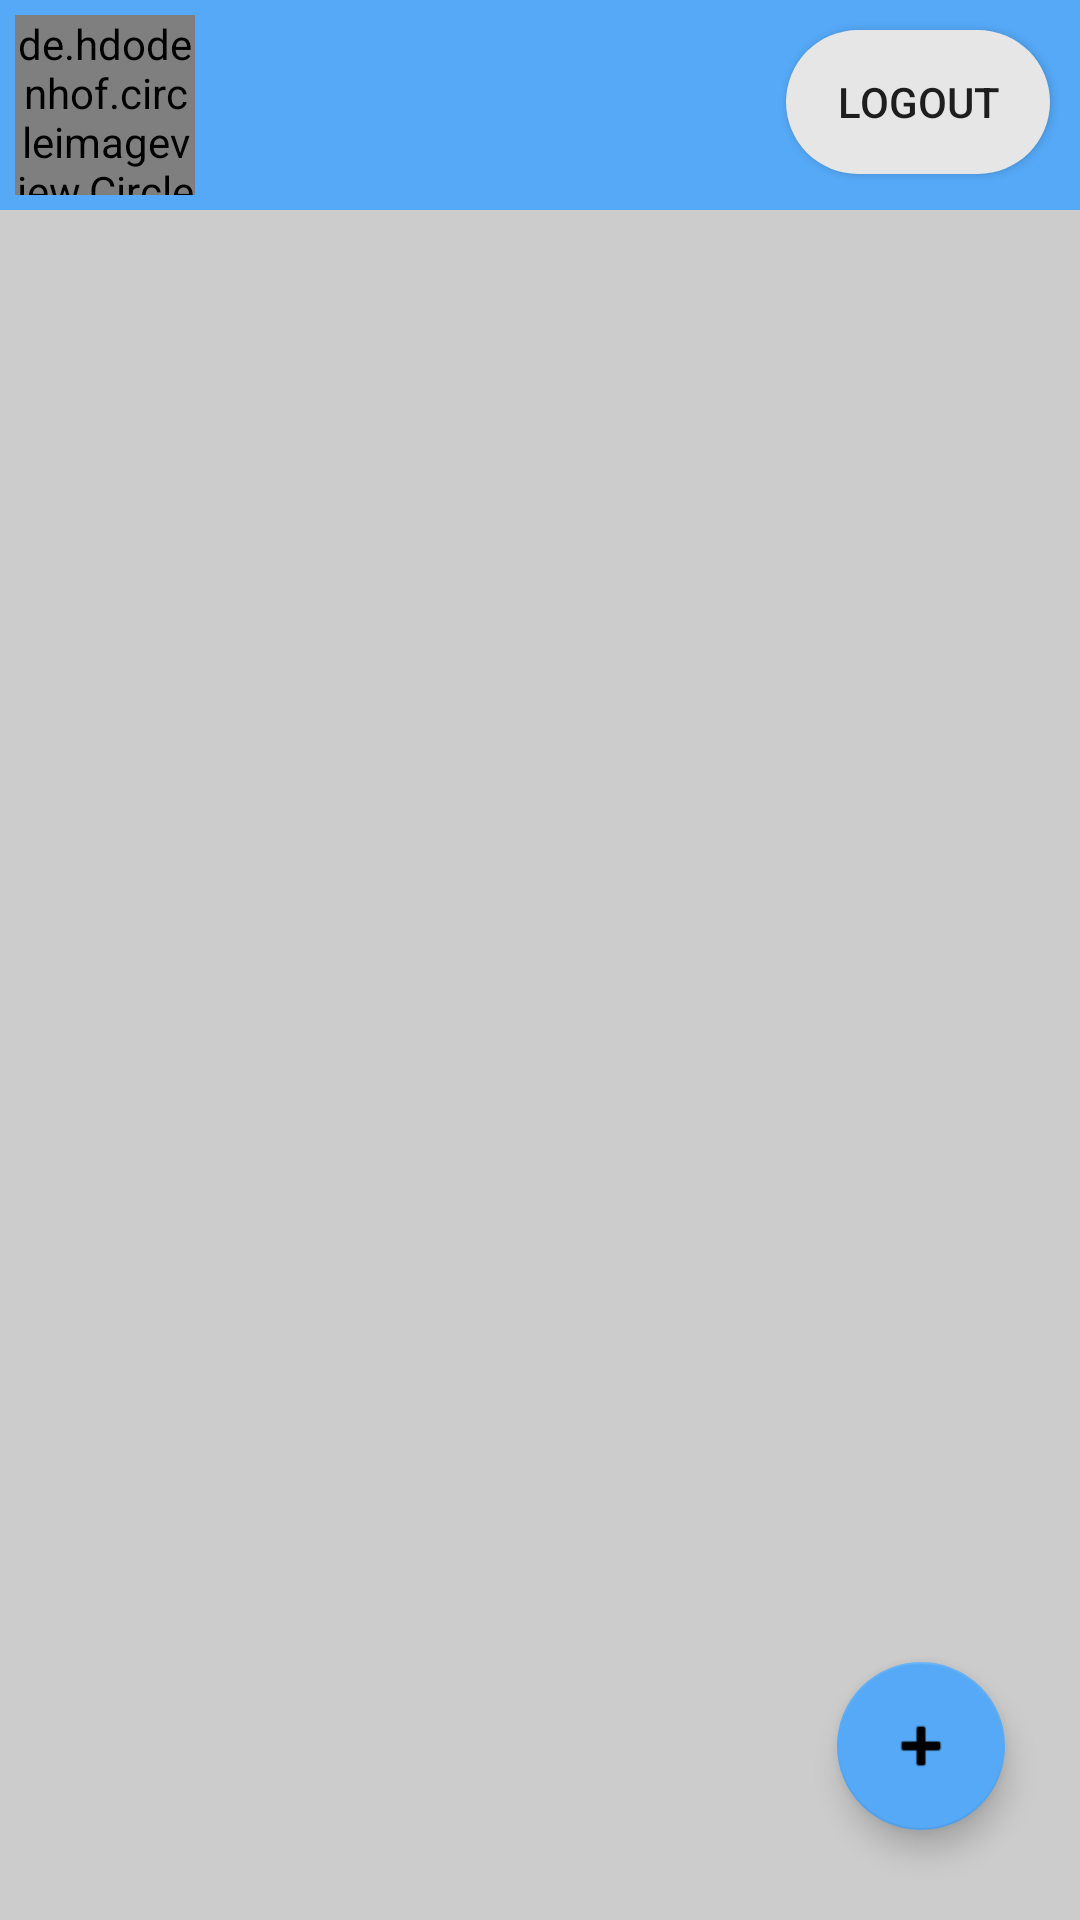

Icons on this 1080px×1920px Android screen, each with its box as region(x1, y1, x2, y2):
add: region(837, 1662, 1005, 1830)
